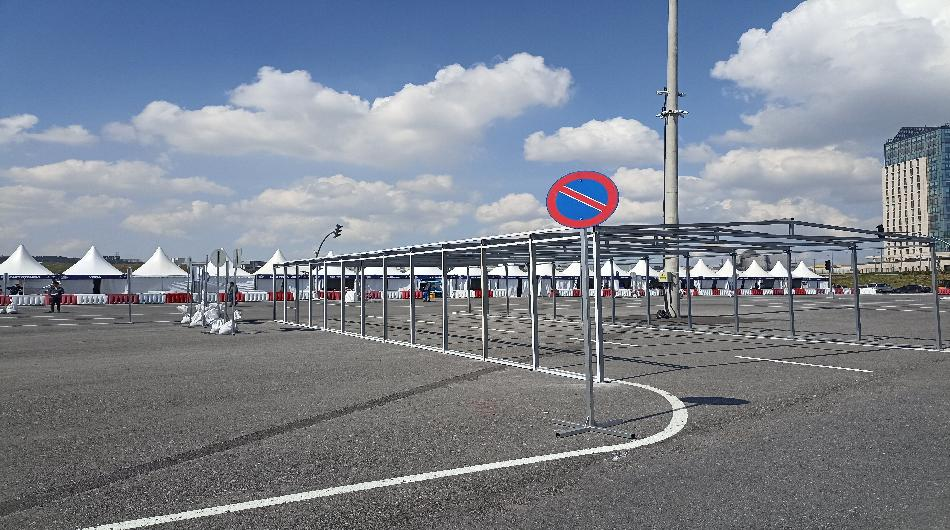park_yapilmaz_1: (546, 168, 614, 226)
